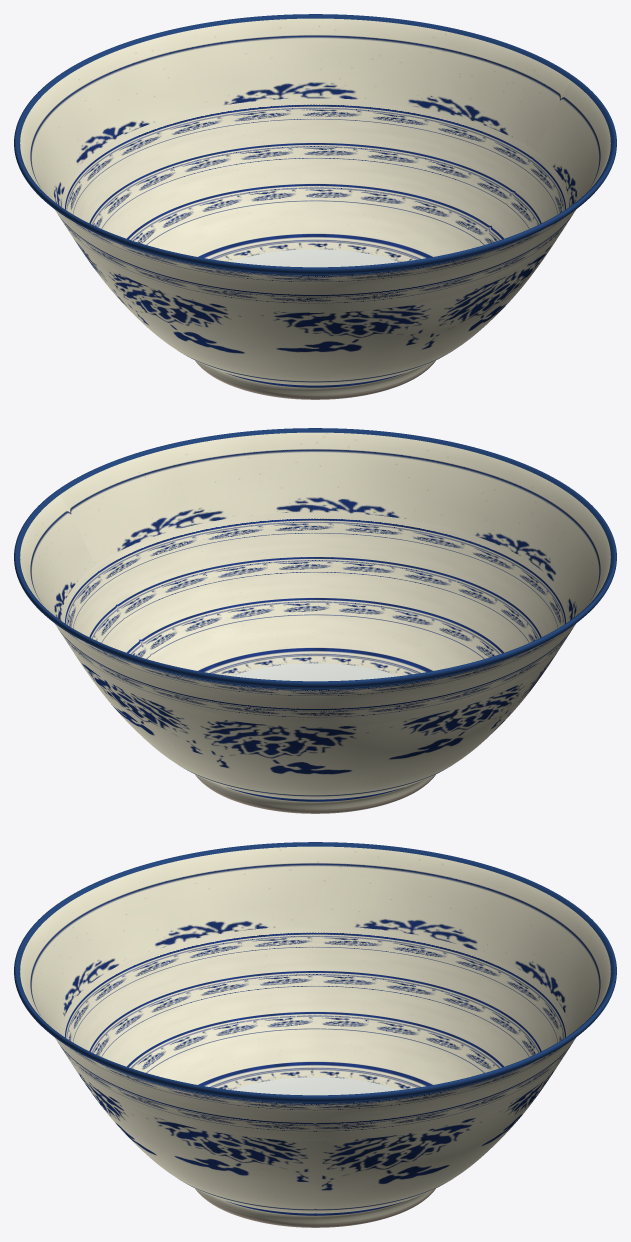
File: bowl_test.glb
3 renders of one model, top to bottom at view 1: azimuth 30°, elevation 25°; view 2: azimuth 150°, elevation 25°; view 3: azimuth 270°, elevation 25°, orthographic.
Parts seen in each view (by area): view 1: Bowl | continuous ceramic wall and foot; view 2: Bowl | continuous ceramic wall and foot; view 3: Bowl | continuous ceramic wall and foot.
Boxes of the visible parts, x1,y1,x2,y2 form: Bowl | continuous ceramic wall and foot: [14, 14, 616, 399]; Bowl | continuous ceramic wall and foot: [14, 428, 616, 813]; Bowl | continuous ceramic wall and foot: [14, 842, 616, 1227].
Size of the model in its own units: 0.2971 by 0.1133 by 0.297.
Materials: 5 (2 with a texture image).
